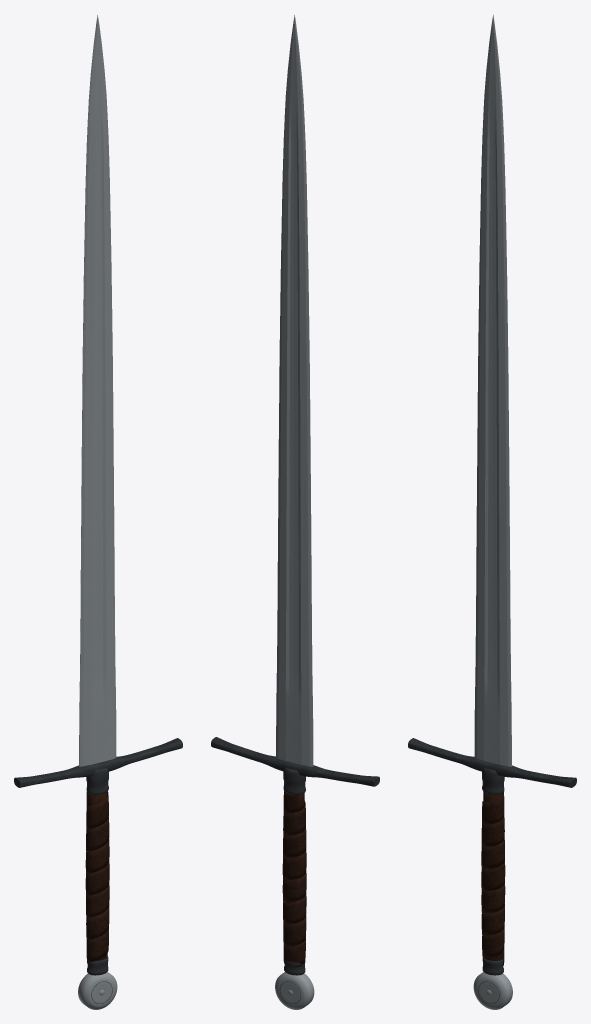
Rendered from Aetheria_T1_TwoHandedSword.fbx.
3 views of the same model, side by side, from view 1: azimuth 30°, elevation 25°; view 2: azimuth 150°, elevation 25°; view 3: azimuth 330°, elevation 25° (orthographic).
Visible parts, largest first — view 1: TwoHandedSword_01_Blade, TwoHandedSword_04_LeatherWrap, TwoHandedSword_02_Crossguard, TwoHandedSword_07_SteelPommel, TwoHandedSword_05_UpperFerrule; view 2: TwoHandedSword_01_Blade, TwoHandedSword_04_LeatherWrap, TwoHandedSword_02_Crossguard, TwoHandedSword_07_SteelPommel, TwoHandedSword_05_UpperFerrule; view 3: TwoHandedSword_01_Blade, TwoHandedSword_04_LeatherWrap, TwoHandedSword_02_Crossguard, TwoHandedSword_07_SteelPommel, TwoHandedSword_05_UpperFerrule.
Boxes of the visible parts, <box> form: TwoHandedSword_01_Blade: <box>79,15,116,766</box>; TwoHandedSword_04_LeatherWrap: <box>85,791,109,962</box>; TwoHandedSword_02_Crossguard: <box>14,738,182,787</box>; TwoHandedSword_07_SteelPommel: <box>78,972,117,1009</box>; TwoHandedSword_05_UpperFerrule: <box>86,768,108,794</box>; TwoHandedSword_01_Blade: <box>276,15,313,766</box>; TwoHandedSword_04_LeatherWrap: <box>282,791,306,967</box>; TwoHandedSword_02_Crossguard: <box>211,737,379,786</box>; TwoHandedSword_07_SteelPommel: <box>275,972,314,1009</box>; TwoHandedSword_05_UpperFerrule: <box>283,768,305,794</box>; TwoHandedSword_01_Blade: <box>474,15,511,766</box>; TwoHandedSword_04_LeatherWrap: <box>481,792,505,965</box>; TwoHandedSword_02_Crossguard: <box>408,738,576,787</box>; TwoHandedSword_07_SteelPommel: <box>473,972,512,1009</box>; TwoHandedSword_05_UpperFerrule: <box>482,768,504,794</box>.
Size of the model in its own units: 0.24 by 1.4 by 0.0245.
3 materials, 3 textured.
